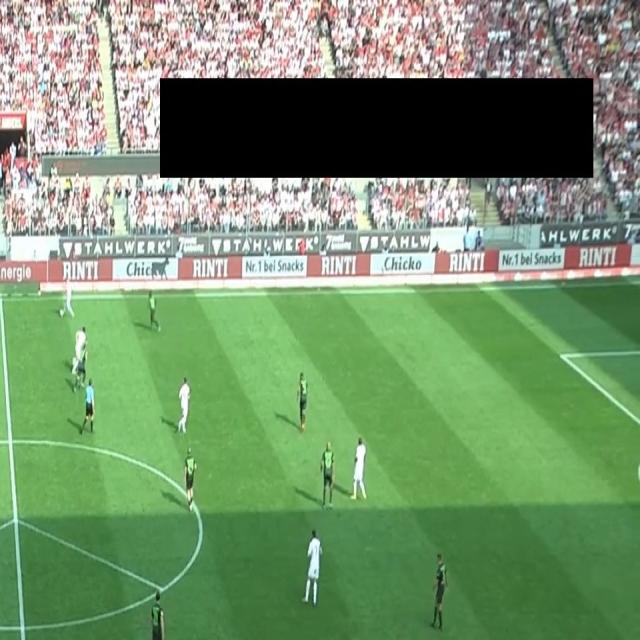ball: (59, 308, 64, 318)
